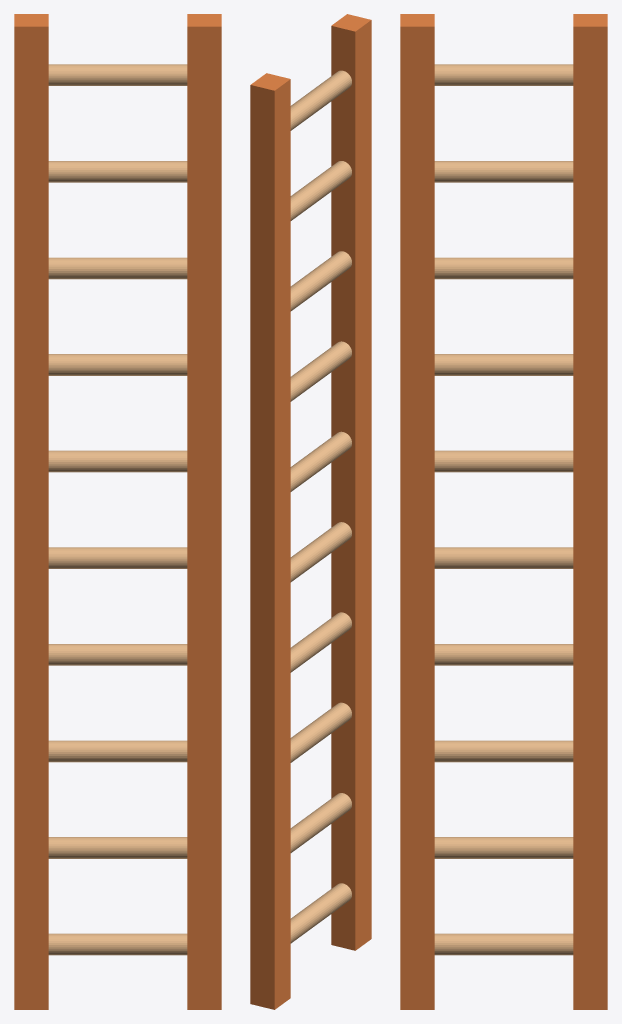
The model's file is ladder.fbx.
3 views of the same model, side by side, from view 1: azimuth 90°, elevation 25°; view 2: azimuth 150°, elevation 25°; view 3: azimuth 270°, elevation 25° (orthographic). The views are drawn at different scales.
Visible parts, largest first — view 1: Cube.002; view 2: Cube.002; view 3: Cube.002.
Part boxes in pixels (box(x1,y1,x2,y2)): Cube.002: box(14, 14, 221, 1009); Cube.002: box(250, 14, 371, 1009); Cube.002: box(400, 14, 607, 1009).
Size of the model in its own units: 6.47 by 235 by 44.78.
